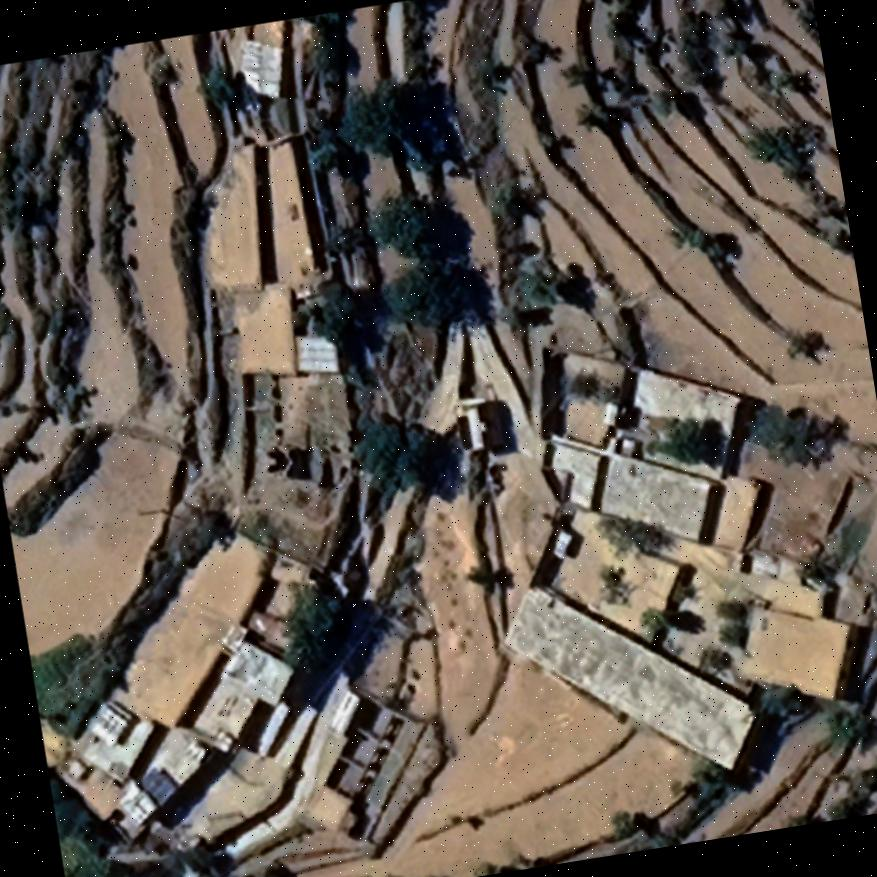Solarpanel: (136, 765, 180, 807)
